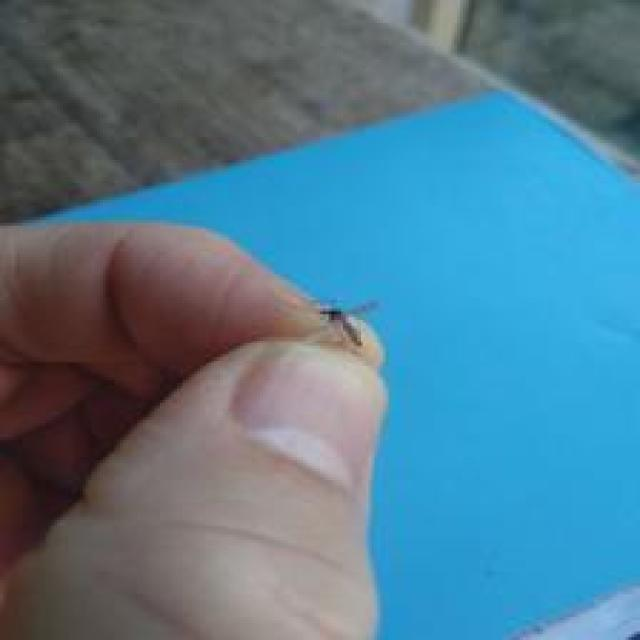Culex: (316, 297, 378, 349)
